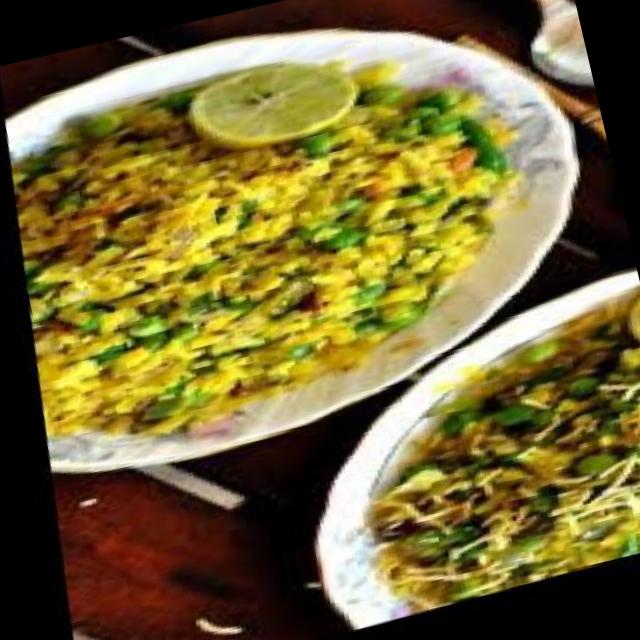poha: (0, 13, 557, 466), (323, 288, 640, 623)
